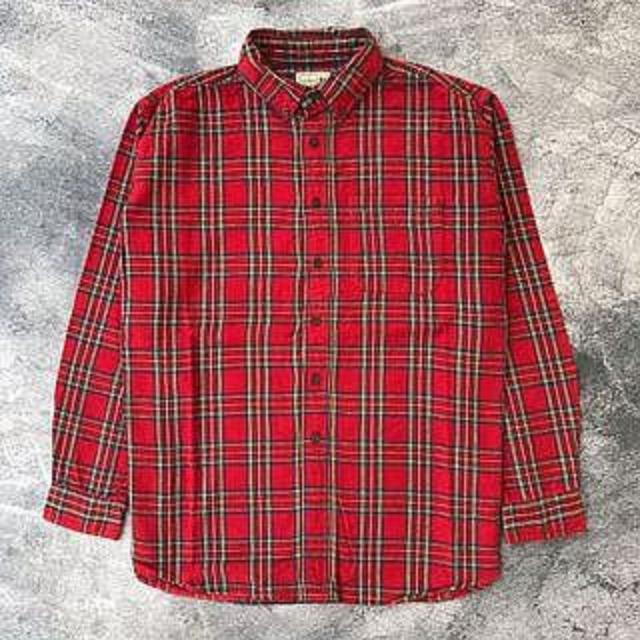SHIRT: (32, 18, 614, 610)
